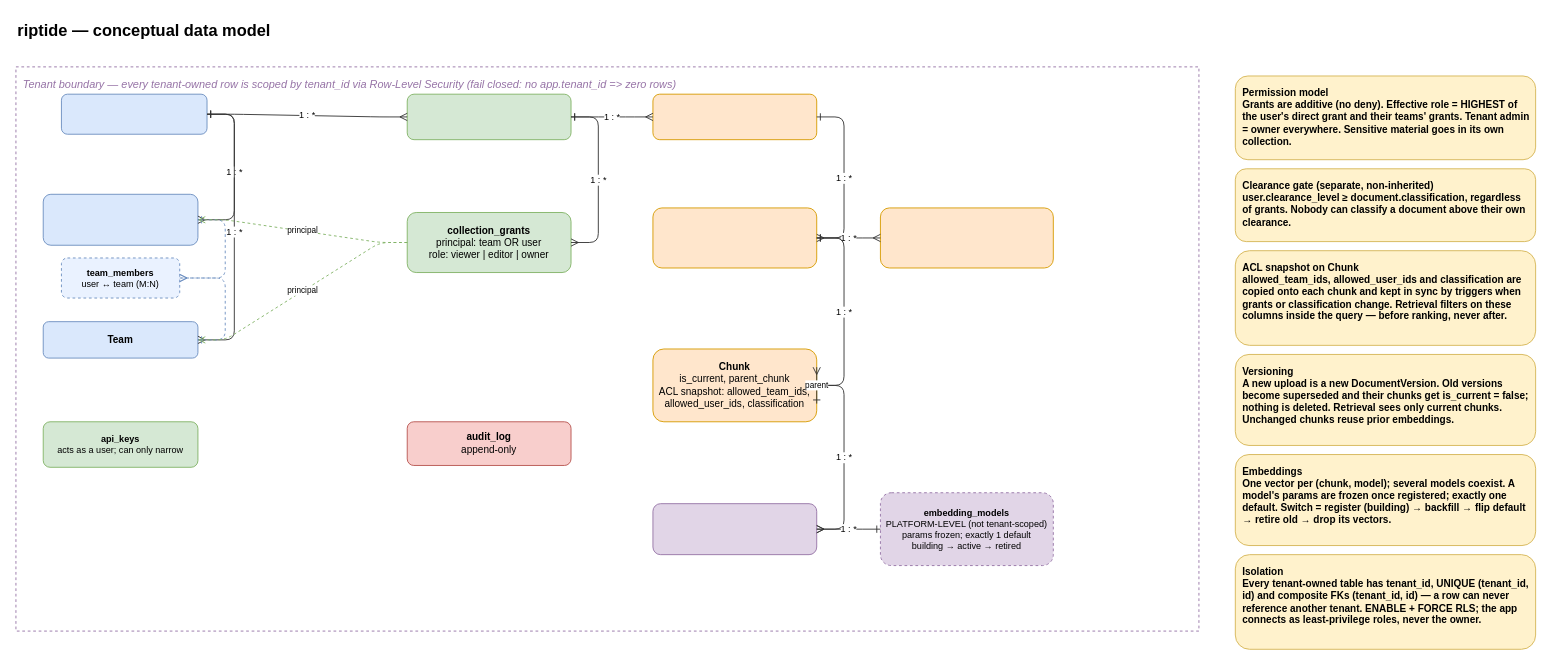
Image size: 1552x665. Some labels were removed from this diagram. The centre of each missing label's shape, as x and y in pixels:
"chunk_embeddings one vector per (chunk, model)" goes at (734,529).
"Collection the permission boundary" goes at (488,116).
"Document classification 0–3" goes at (734,116).
"DocumentVersion status, content_sha256 pipeline_version" goes at (734,237).
"ingestion_jobs one per (version, stage) attempts, backoff, dead = DLQ" goes at (966,237).
"Tenant" goes at (134,113).
"User clearance_level, is_tenant_admin" goes at (120,219).
